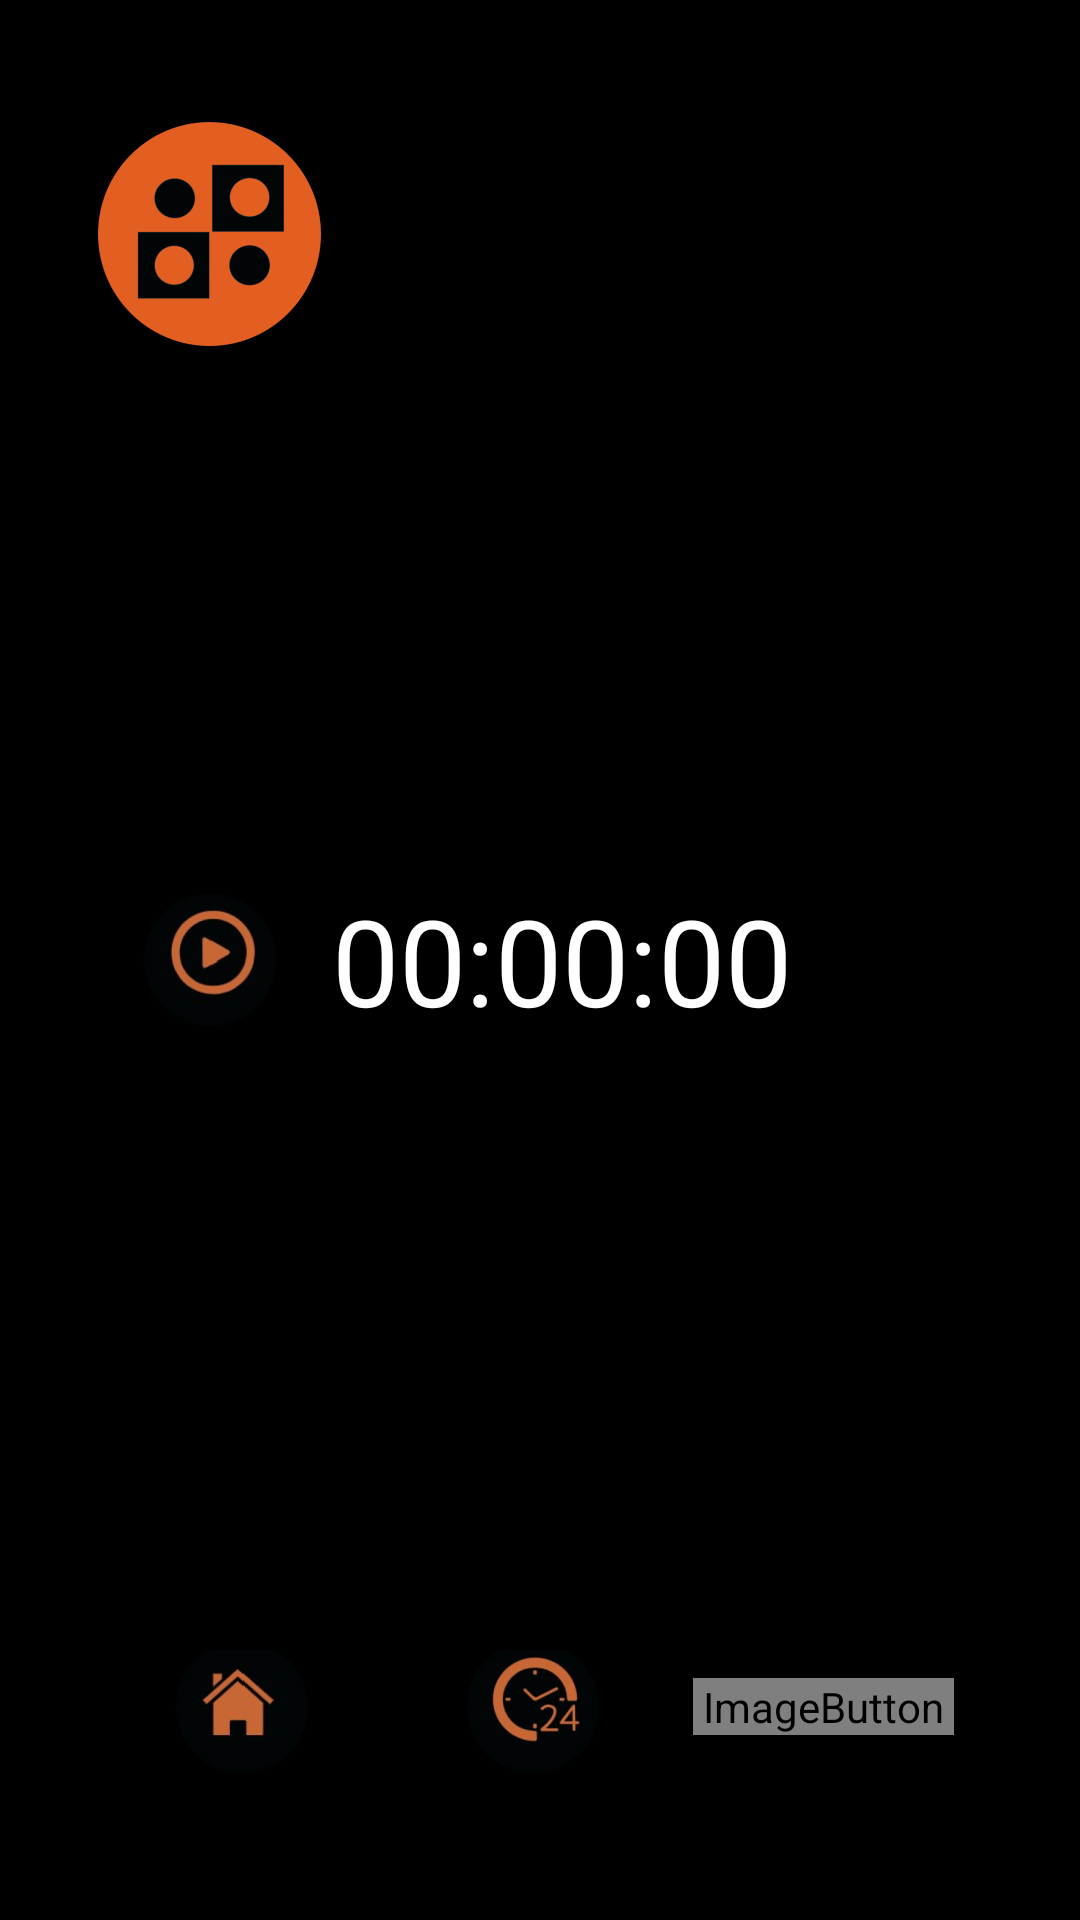

Icons on this 1080x1920 Android screen, each with the point to tap as (x,y):
home round: (238,1702)
play round: (213,952)
time round: (536,1699)
